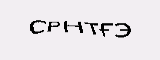Ғ: (99, 21, 114, 37)
